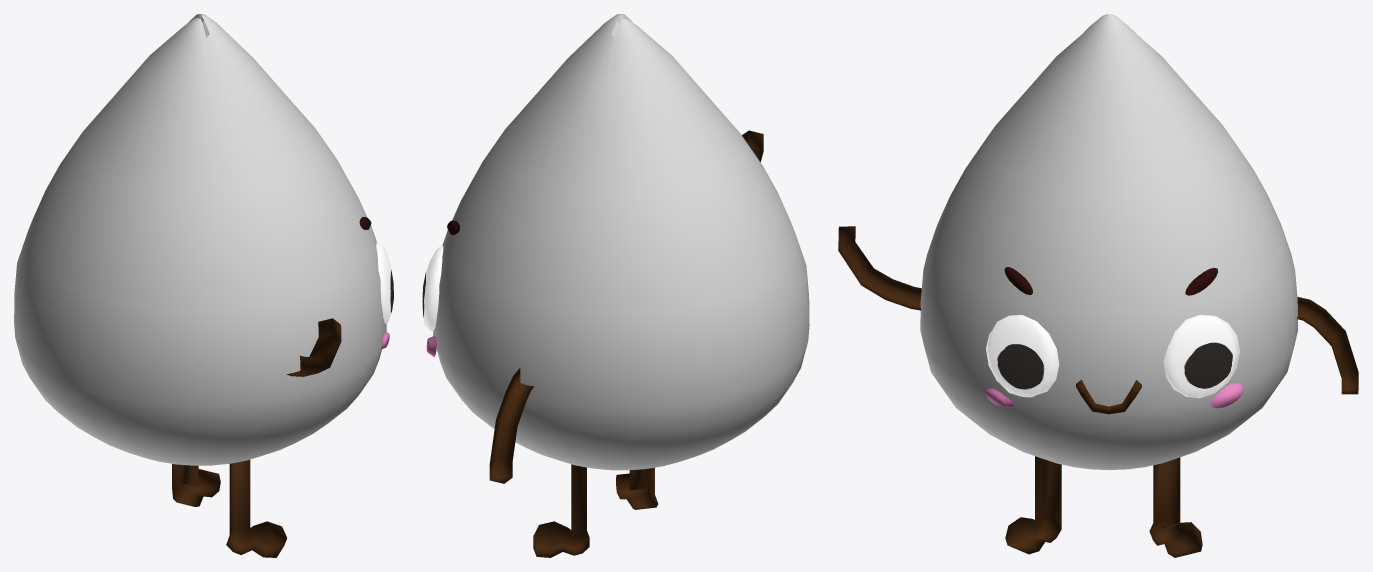
File: mascotte.glb
3 renders of one model, left to right at view 1: azimuth 30°, elevation 25°; view 2: azimuth 150°, elevation 25°; view 3: azimuth 270°, elevation 25°, orthographic.
Parts seen in each view (by area): view 1: body, leg R, leg L, arm R, eye 1; view 2: body, leg L, arm L, leg R, eye2; view 3: body, eye2, eye 1, leg L, leg R, arm R, arm L, sourir.
Part boxes in pixels (x1,y1,x2,y2): body: (14, 14, 386, 465); leg R: (226, 459, 286, 557); leg L: (172, 464, 220, 506); arm R: (286, 318, 341, 376); eye 1: (376, 242, 393, 324); body: (433, 14, 809, 470); leg L: (533, 464, 589, 557); arm L: (489, 368, 534, 483); leg R: (616, 467, 658, 509); eye2: (422, 246, 443, 331); body: (920, 14, 1298, 470); eye2: (1163, 315, 1240, 397); eye 1: (986, 315, 1059, 397); leg L: (1149, 457, 1202, 557); leg R: (1005, 456, 1061, 554); arm R: (838, 226, 921, 310); arm L: (1297, 297, 1358, 394); sourir: (1076, 379, 1141, 414).
Size of the model in its own units: 1.28 by 1.93 by 1.75.
6 materials, 1 textured.
